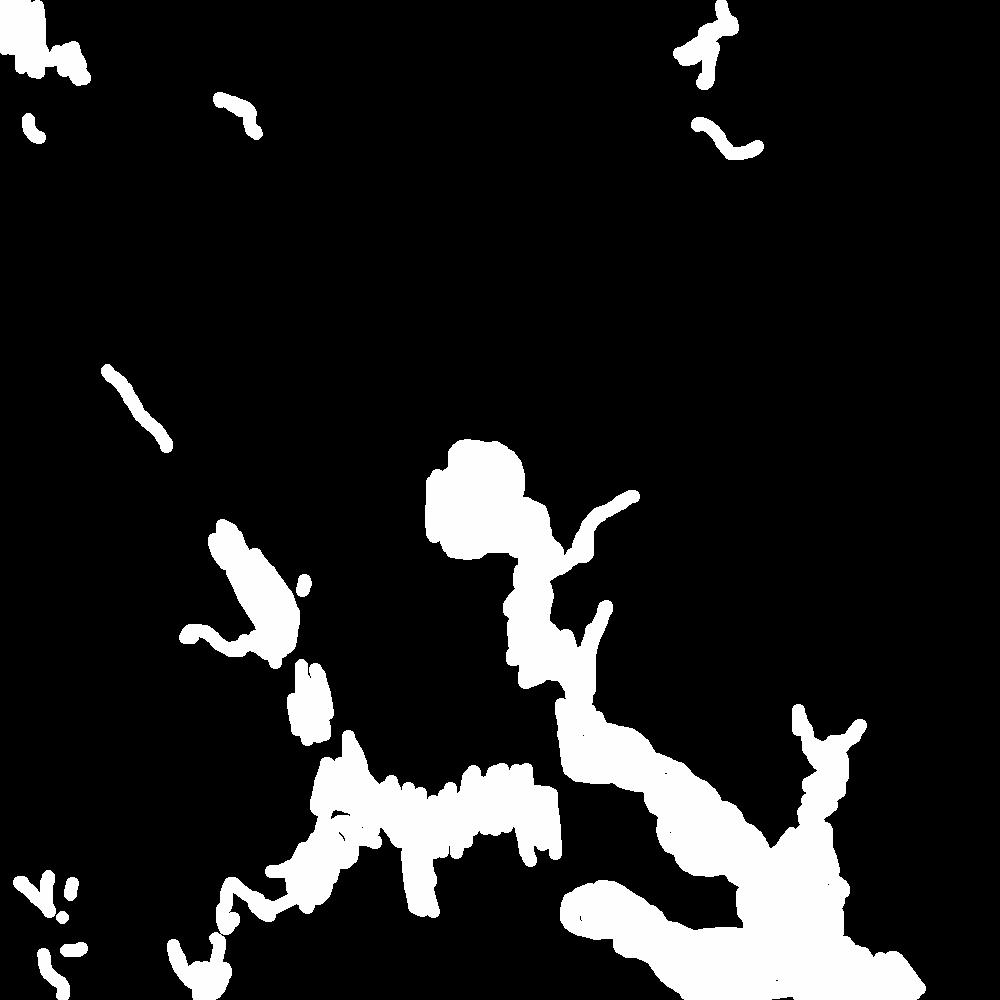illegal: (554, 658, 867, 886), (442, 446, 645, 684), (564, 883, 921, 1000), (322, 773, 486, 923), (181, 528, 312, 667), (1, 1, 87, 143), (9, 864, 95, 1000), (174, 884, 244, 1000), (499, 771, 560, 867), (677, 1, 745, 86), (174, 79, 265, 130), (288, 665, 337, 747), (101, 362, 151, 423)
